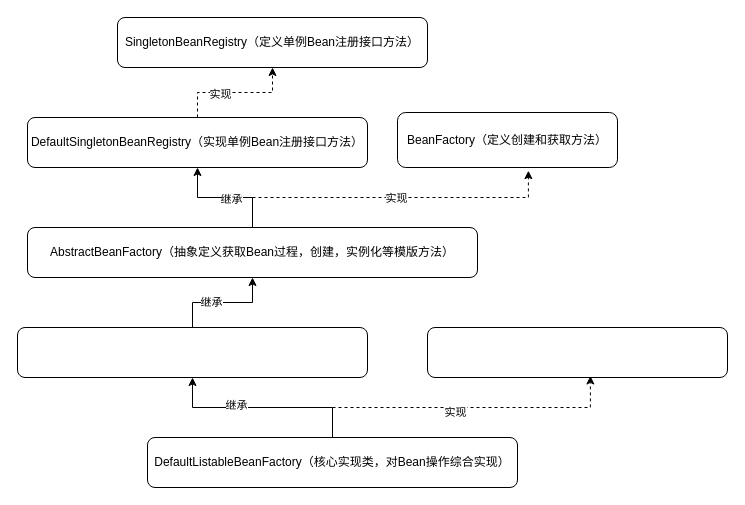
Image size: 745x505. Some labels were removed from this diagram. Here are the shapes that lost their labels. From the top down, the centre of each, then its label:
At pixel 192 352: "AbstractAutowireCapableBeanFactory（部分实现部分父类方法）".
At pixel 577 352: "BeanDefinitionRegistry（Bean定义注册接口定义）".
